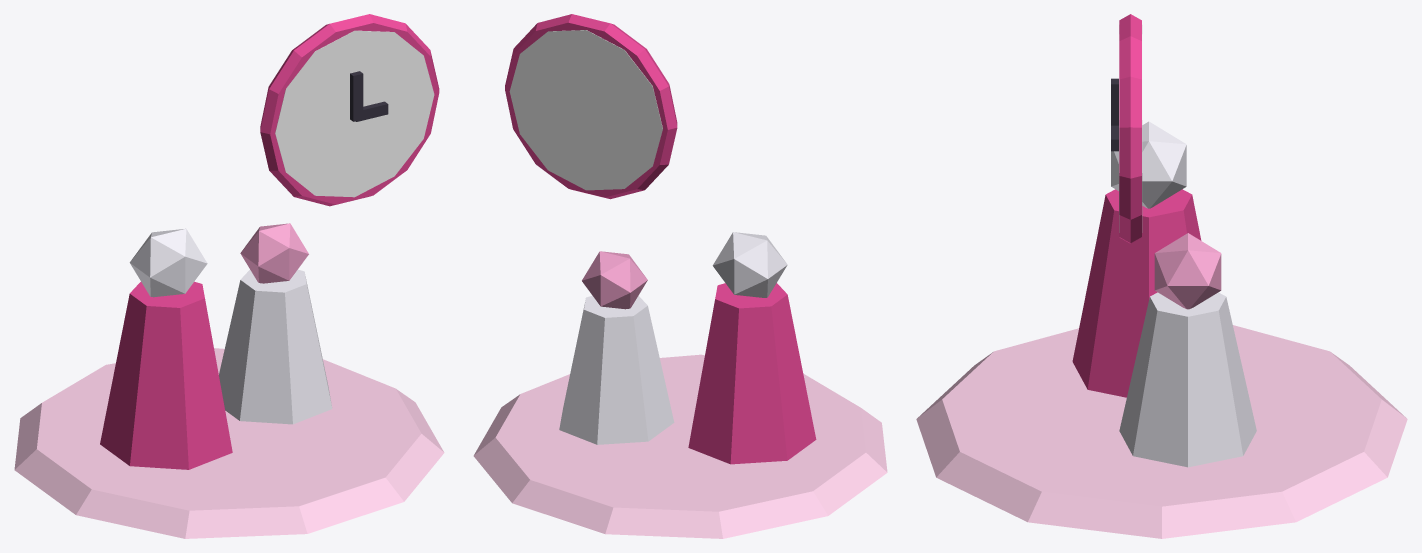
File: resource.glb
3 views of the same model, side by side, from view 1: azimuth 30°, elevation 25°; view 2: azimuth 150°, elevation 25°; view 3: azimuth 270°, elevation 25° (orthographic). The views are drawn at different scales.
Visible parts, largest first — view 1: resource; view 2: resource; view 3: resource.
Part boxes in pixels (<box>): resource: <box>14,14,444,538</box>; resource: <box>473,14,887,538</box>; resource: <box>916,14,1407,538</box>.
Bounding box in the file's own units: 1.91 × 1.98 × 1.88.
